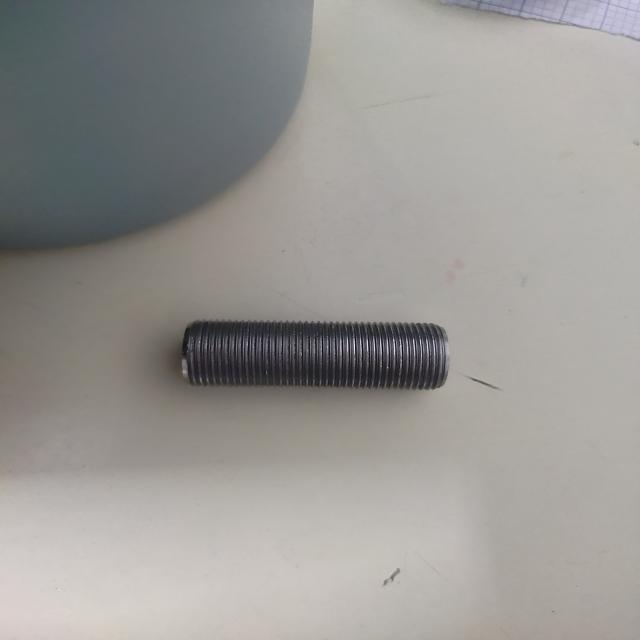Normal: (182, 319, 448, 392)
